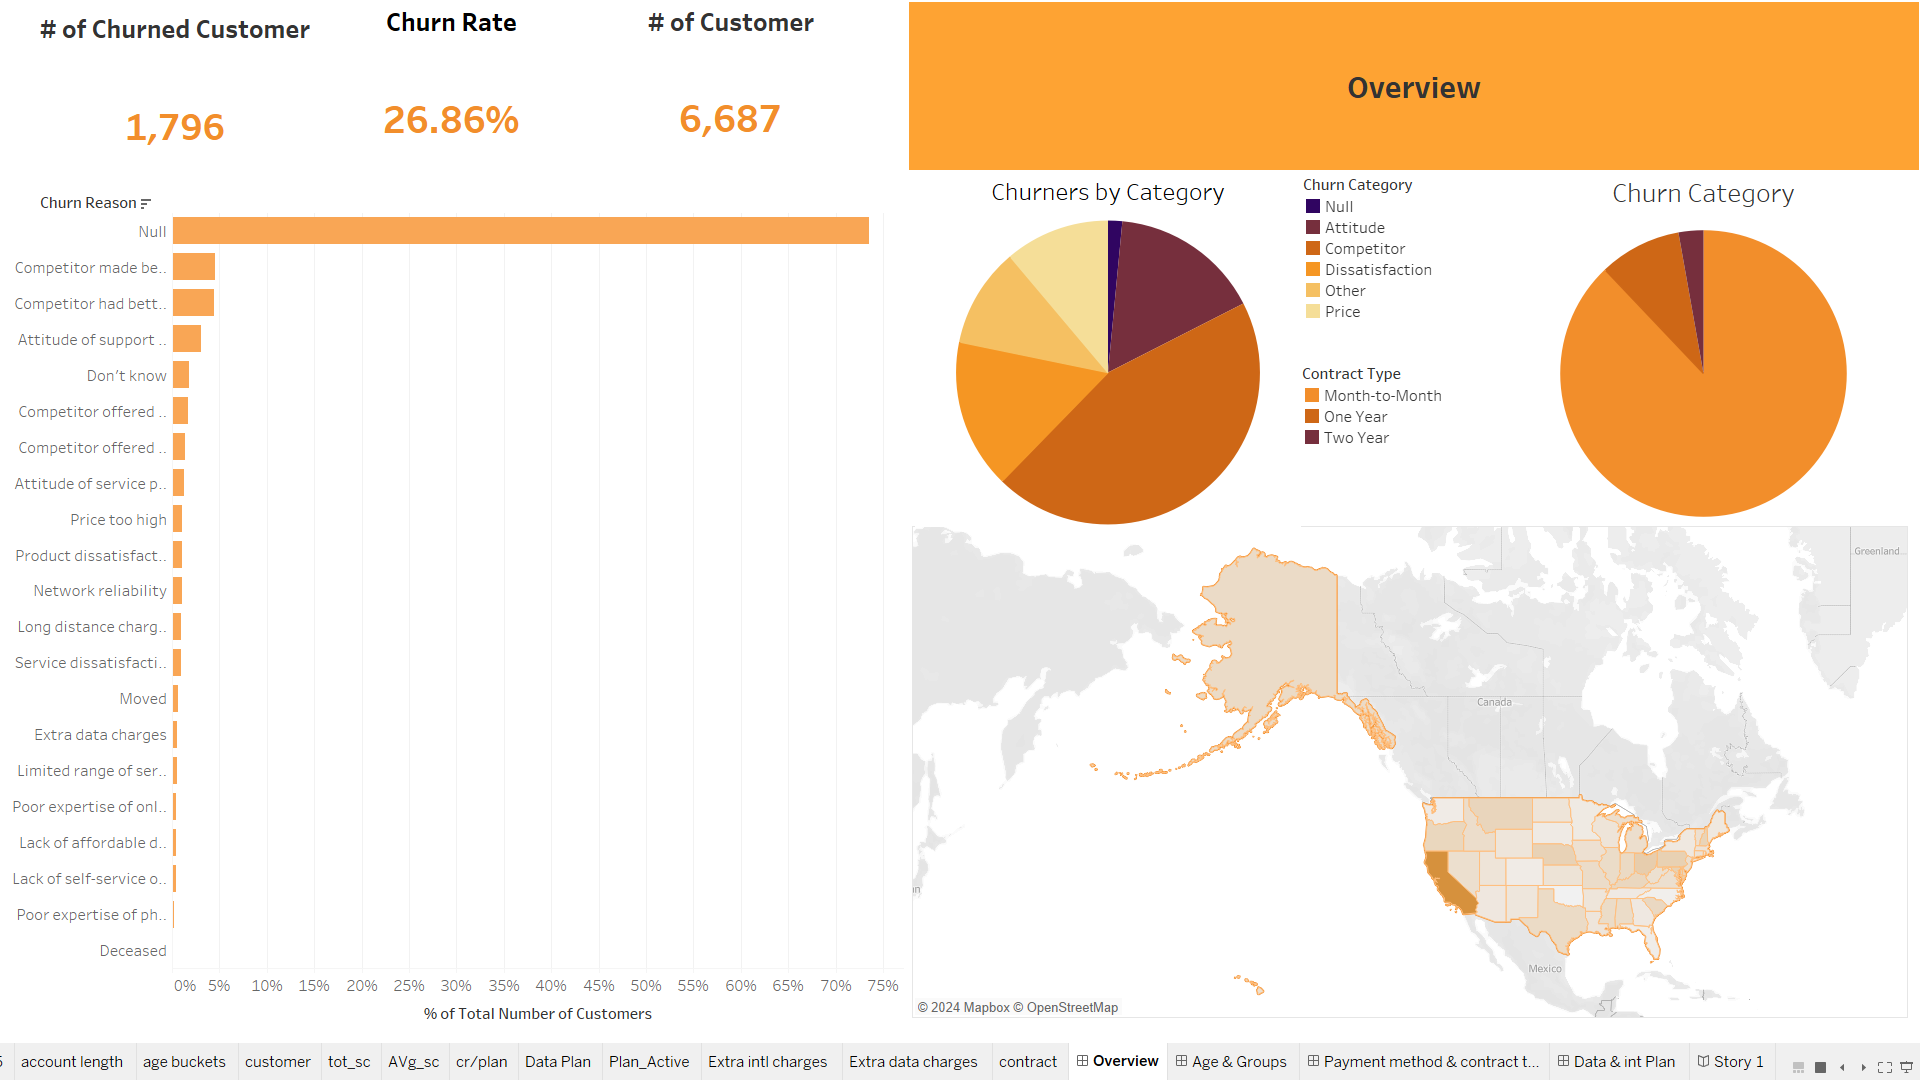

This screenshot's page, from the dashboard's own definition file:
{"tool":"tableau","page":{"name":"Overview","canvas":[1000,1000],"units":"permille","ordinal":2},"visuals":[{"type":"worksheet","title":"churn rate","mark":"Automatic","box":[181.2,0,107.8,178.9]},{"type":"worksheet","title":"# of Customer","mark":"Automatic","box":[289.6,0,182.4,177.8]},{"type":"title","box":[473.2,2.2,526.2,161.4]},{"type":"worksheet","title":"# of Churned Customer","mark":"Automatic","box":[2.4,6.6,177,178.9]},{"type":"worksheet","title":"pie chart","mark":"Pie","box":[476.8,163.6,201.1,341.4]},{"type":"worksheet","title":"Churn Category","mark":"Pie","box":[779.1,163.6,216.1,340.3]},{"type":"legend","title":"pie chart","param":"[federated.126dpc61ox4dfk1h3xwsc1kb167l].[none:Churn Category:nk]","box":[678.5,166.8,97.5,338.1]},{"type":"worksheet","title":"Datacheck","mark":"Automatic","rows":["Churn Reason"],"cols":["Calculation_1270015102411657216"],"box":[4.7,182.1,468.2,809.2]},{"type":"legend","title":"Churn Category","param":"[federated.126dpc61ox4dfk1h3xwsc1kb167l].[none:Contract Type:nk]","box":[677.9,348,102.4,154.8]},{"type":"worksheet","title":"map","mark":"Multipolygon","box":[472.9,500,522.4,491.2]}]}

Visuals, with their boxes on the dashboard's canvas, which has no fixed pixel size, in thousandths of its width and height (x1, y1, x2, y2). These are canvas units, not pixel positions in the 1920x1080 screenshot, which may show the page scaled, cropped or inside an application window:
"churn rate" worksheet: 181,0,289,179
"# of Customer" worksheet: 290,0,472,178
title: 473,2,999,164
"# of Churned Customer" worksheet: 2,7,179,186
"pie chart" worksheet (Pie marks): 477,164,678,505
"Churn Category" worksheet (Pie marks): 779,164,995,504
"pie chart" legend: 678,167,776,505
"Datacheck" worksheet: 5,182,473,991
"Churn Category" legend: 678,348,780,503
"map" worksheet (Multipolygon marks): 473,500,995,991
